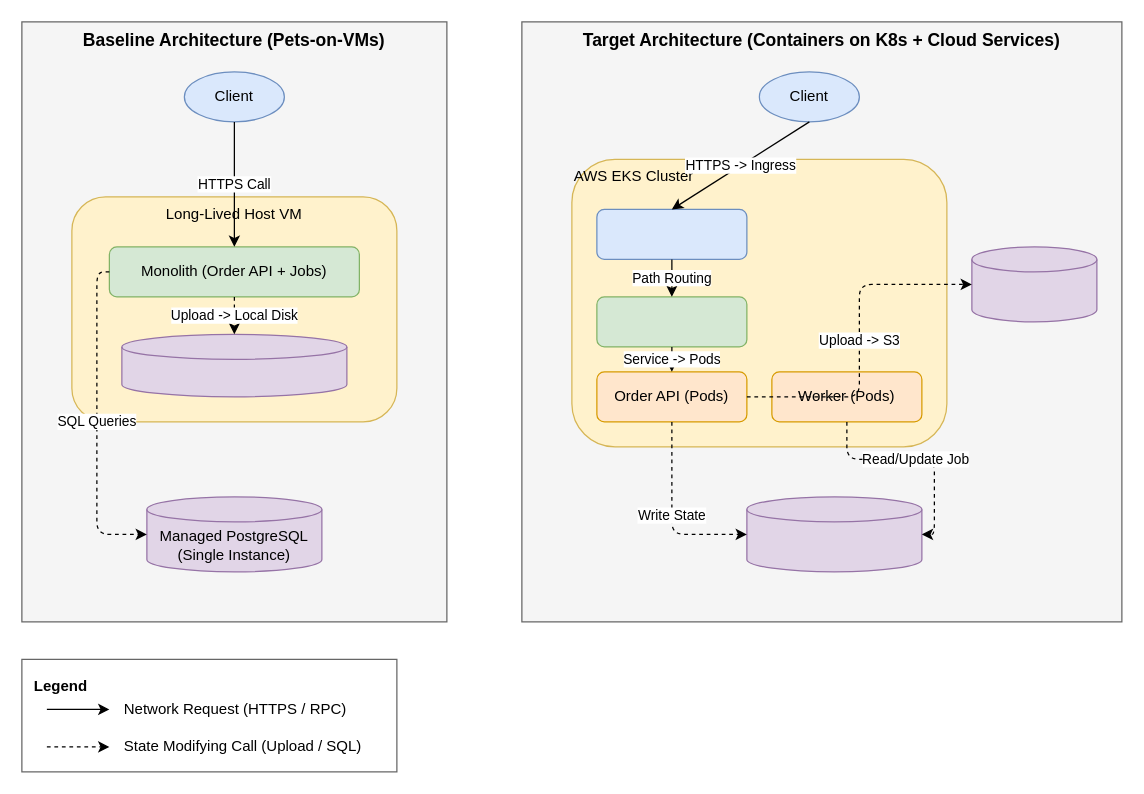
Image size: 1144x794. Some labels were removed from this diagram. Each missing label, with the centre of its shape:
"Amazon RDS (PostgreSQL)" belongs at [834,534].
"Amazon S3 (Uploads Bucket)" belongs at [1034,284].
"Ingress Controller" belongs at [671,233].
"K8s Service" belongs at [671,321].
"Local Disk (/var/citybite/uploads)" belongs at [234,365].
